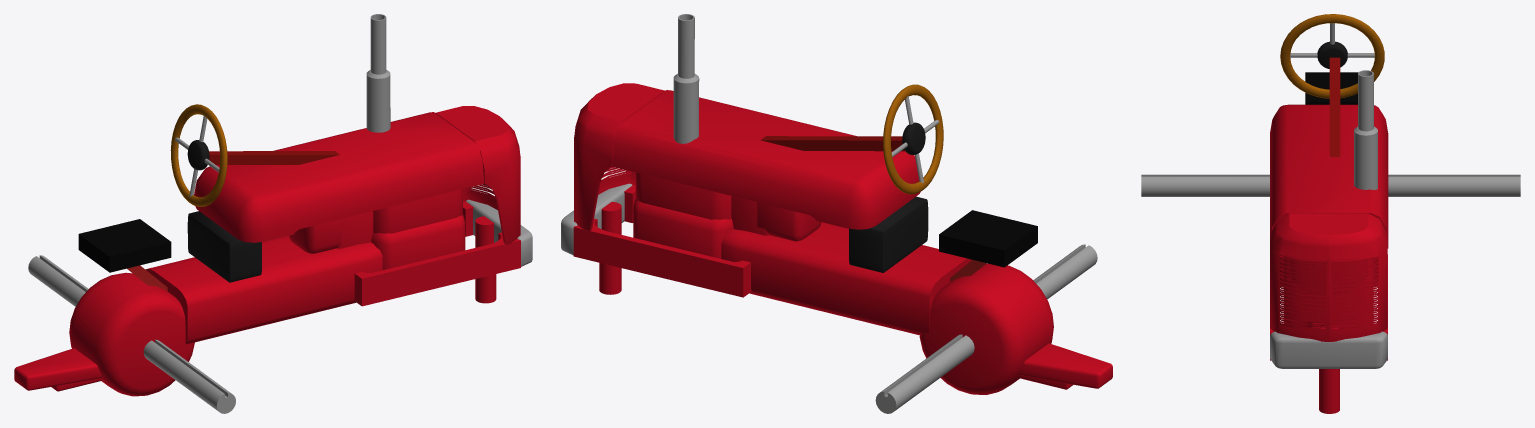
The model's file is corpseCar.DAE.
The picture shows the model from 3 angles, left to right: view 1: azimuth 30°, elevation 25°; view 2: azimuth 150°, elevation 25°; view 3: azimuth 270°, elevation 25°; orthographic projection. The views are drawn at different scales.
Parts seen in each view (by area): view 1: ChamferBox01, ChamferBox06, ChamferBox30, ChamferBox02, Box02, Cylinder143, Bo_te02, ChamferBox29, ChamferBox04, ChamferBox03, Torus03, Bo_te01 (+7 smaller); view 2: ChamferBox01, ChamferBox06, ChamferBox30, ChamferBox02, Box01, Cylinder143, Bo_te02, ChamferBox29, ChamferBox04, ChamferBox03, Torus03, Bo_te01 (+7 smaller); view 3: ChamferBox02, ChamferBox01, Cylinder143, ChamferBox08, Torus03, ChamferBox04, ChamferCyl24, Bo_te01, Bo_te02, Tube02, Cylinder23, ChamferBox03 (+1 smaller).
Part boxes in pixels (<box>): ChamferBox01: <box>194,112,483,242</box>; ChamferBox06: <box>145,235,382,344</box>; ChamferBox30: <box>14,272,194,396</box>; ChamferBox02: <box>435,106,520,244</box>; Box02: <box>354,232,520,306</box>; Cylinder143: <box>28,255,235,413</box>; Bo_te02: <box>78,219,171,272</box>; ChamferBox29: <box>187,211,261,282</box>; ChamferBox04: <box>371,214,465,269</box>; ChamferBox03: <box>373,189,462,233</box>; Torus03: <box>170,104,227,206</box>; Bo_te01: <box>209,151,339,164</box>; ChamferBox01: <box>613,90,920,229</box>; ChamferBox06: <box>721,222,972,335</box>; ChamferBox30: <box>919,263,1112,394</box>; ChamferBox02: <box>574,83,664,230</box>; Box01: <box>573,218,751,297</box>; Cylinder143: <box>875,244,1097,413</box>; Bo_te02: <box>939,210,1037,267</box>; ChamferBox29: <box>849,196,928,272</box>; ChamferBox04: <box>633,199,733,258</box>; ChamferBox03: <box>635,172,731,219</box>; Torus03: <box>883,84,943,194</box>; Bo_te01: <box>760,136,904,151</box>; ChamferBox02: <box>1270,213,1387,341</box>; ChamferBox01: <box>1270,104,1388,248</box>; Cylinder143: <box>1141,174,1520,196</box>; ChamferBox08: <box>1270,331,1387,368</box>; Torus03: <box>1280,14,1384,98</box>; ChamferBox04: <box>1284,255,1373,328</box>; ChamferCyl24: <box>1354,126,1377,189</box>; Bo_te01: <box>1329,57,1340,156</box>; Bo_te02: <box>1305,72,1358,104</box>; Tube02: <box>1358,70,1373,131</box>; Cylinder23: <box>1319,328,1339,413</box>; ChamferBox03: <box>1289,256,1367,294</box>.
Bounding box in the file's own units: 52.71 × 35.31 × 30.06.
